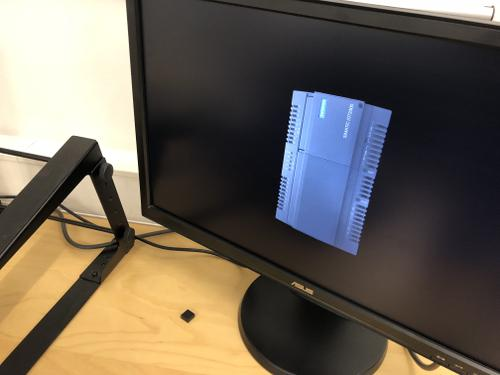device: (276, 91, 392, 256)
